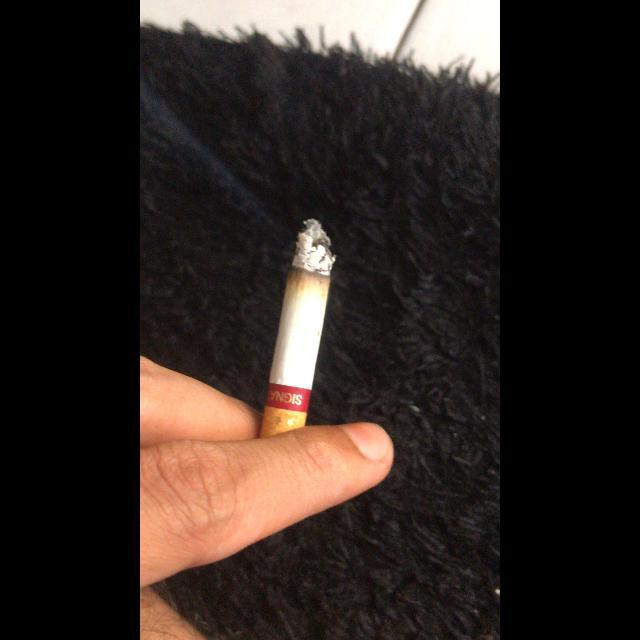rokok: (252, 209, 336, 439)
